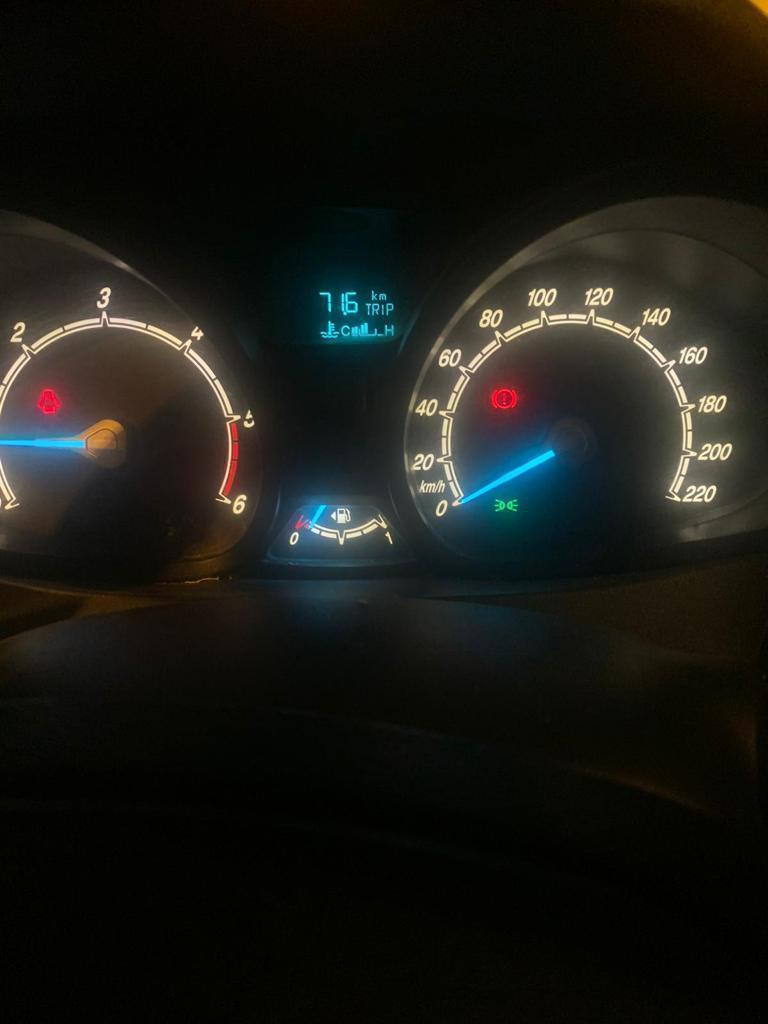,: (342, 310, 347, 316)
1: (339, 290, 344, 312)
6: (345, 291, 359, 313)
7: (319, 290, 334, 313)
X: (384, 322, 394, 337), (340, 324, 350, 337), (386, 302, 395, 316), (371, 302, 379, 316), (364, 302, 371, 316), (370, 288, 377, 301), (378, 291, 387, 300), (380, 303, 385, 317)
odometer: (277, 276, 408, 346)
